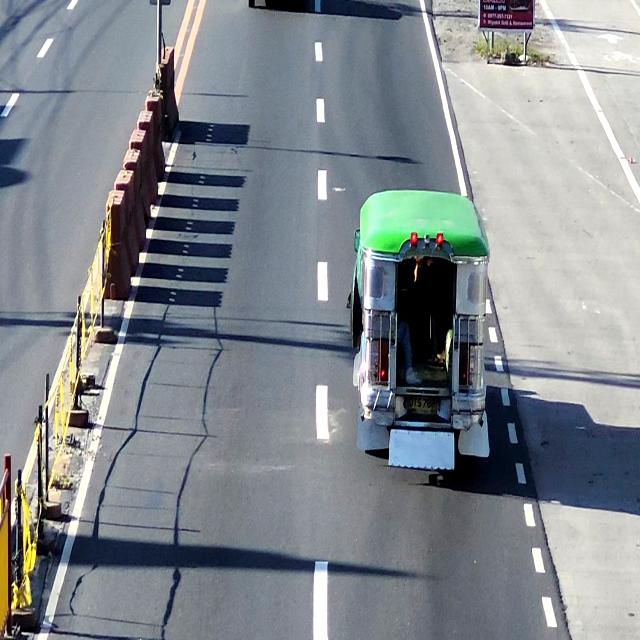Jeep: (349, 190, 495, 478)
License-Plate: (400, 392, 442, 422)
